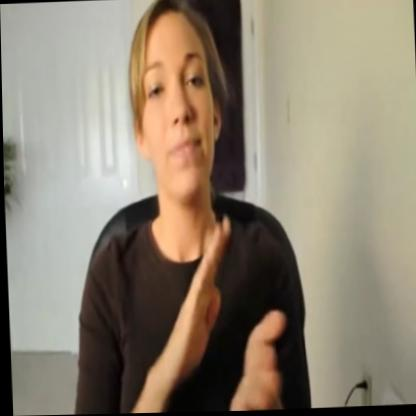NiceToMeetYou: (104, 121, 291, 414)
